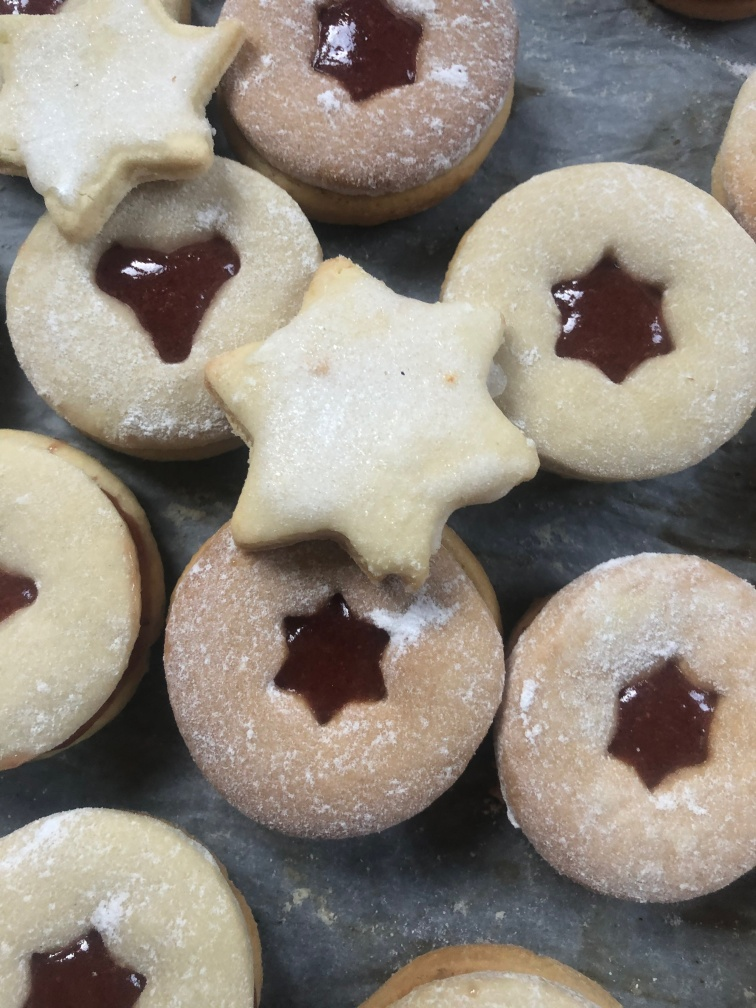christmas shortbread with jam: (167, 529, 501, 837), (450, 159, 752, 474), (7, 156, 322, 448), (505, 553, 756, 901), (222, 1, 512, 206), (5, 426, 154, 777), (4, 806, 261, 1008)
star: (210, 253, 540, 579), (4, 1, 250, 232)
